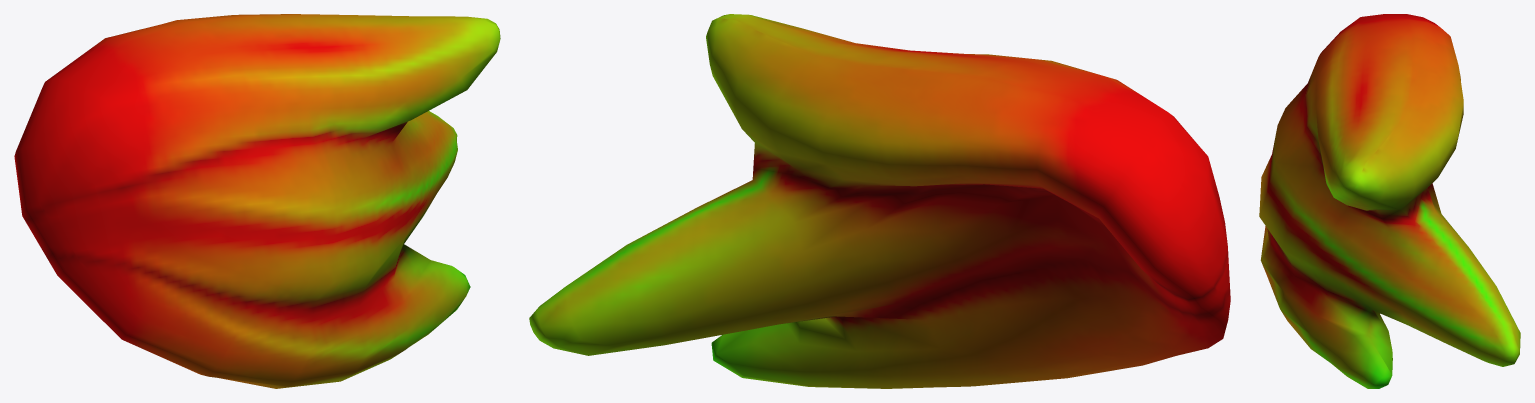
Rendered from HairBack_Boyish.obj.
3 views of the same model, side by side, from view 1: azimuth 30°, elevation 25°; view 2: azimuth 150°, elevation 25°; view 3: azimuth 270°, elevation 25° (orthographic). The views are drawn at different scales.
Visible parts, largest first — view 1: HairBack_Boyish_0; view 2: HairBack_Boyish_0; view 3: HairBack_Boyish_0.
Part boxes in pixels (box(x1,y1,x2,y2)): HairBack_Boyish_0: box(14, 14, 500, 388); HairBack_Boyish_0: box(529, 14, 1230, 388); HairBack_Boyish_0: box(1259, 14, 1520, 388).
Size of the model in its own units: 0.1866 by 0.1164 by 0.1061.
Materials: 1 (1 with a texture image).
